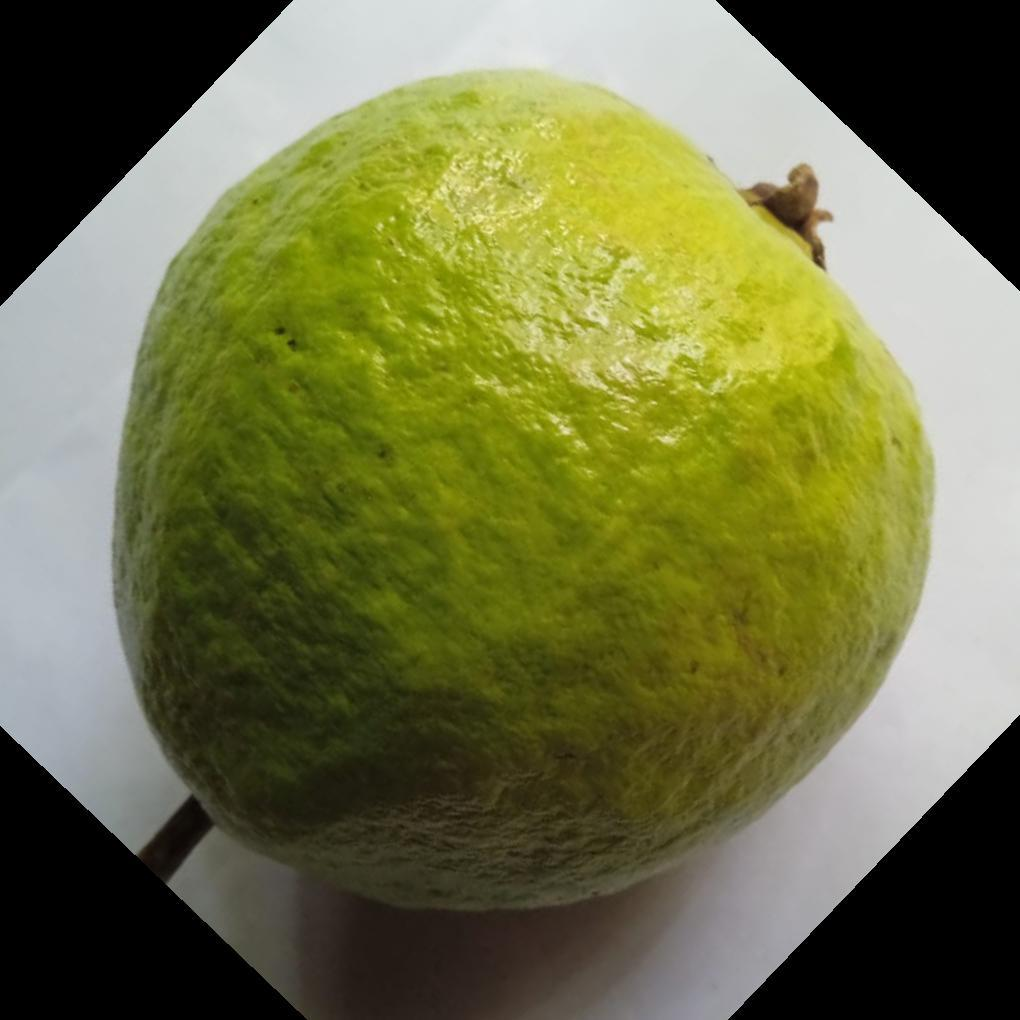FreshGuava: (109, 69, 936, 919)
